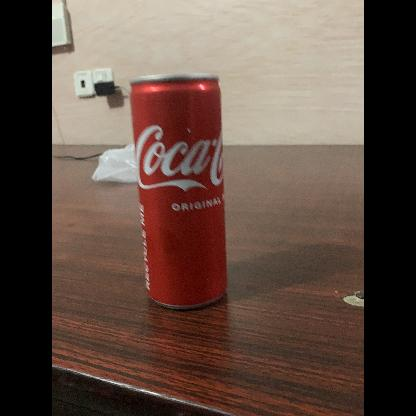Tin_Can: (128, 66, 230, 316)
